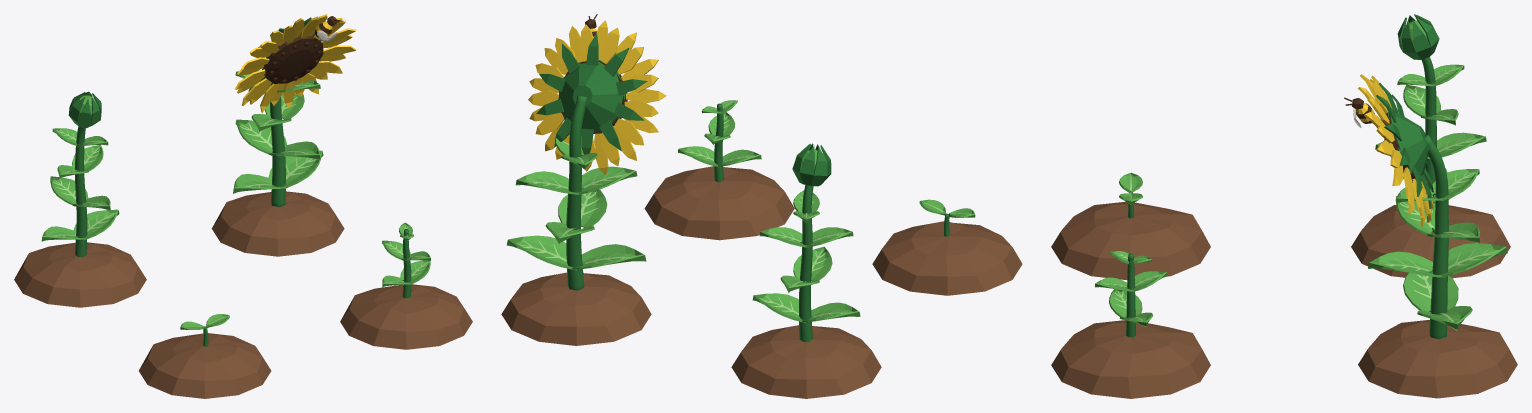
Rendered from sunflower-growth-stages.glb.
3 views of the same model, side by side, from view 1: azimuth 30°, elevation 25°; view 2: azimuth 150°, elevation 25°; view 3: azimuth 270°, elevation 25° (orthographic). The views are drawn at different scales.
Visible parts, largest first — view 1: Sunflower_Stage4_Grown, Sunflower_Stage3_Bud, Sunflower_Stage2_Young, Sunflower_Stage1_Sprout; view 2: Sunflower_Stage4_Grown, Sunflower_Stage3_Bud, Sunflower_Stage2_Young, Sunflower_Stage1_Sprout; view 3: Sunflower_Stage4_Grown, Sunflower_Stage2_Young, Sunflower_Stage3_Bud, Sunflower_Stage1_Sprout.
Boxes of the visible parts, x1,y1,x2,y2 form: Sunflower_Stage4_Grown: (211, 14, 356, 256); Sunflower_Stage3_Bud: (14, 91, 146, 307); Sunflower_Stage2_Young: (340, 223, 472, 349); Sunflower_Stage1_Sprout: (139, 314, 271, 398); Sunflower_Stage4_Grown: (501, 14, 666, 345); Sunflower_Stage3_Bud: (731, 143, 881, 398); Sunflower_Stage2_Young: (644, 100, 794, 240); Sunflower_Stage1_Sprout: (872, 199, 1022, 295); Sunflower_Stage4_Grown: (1344, 74, 1517, 398); Sunflower_Stage2_Young: (1051, 251, 1210, 398); Sunflower_Stage3_Bud: (1351, 14, 1510, 278); Sunflower_Stage1_Sprout: (1051, 172, 1210, 280).
Bounding box in the file's own units: 11.05 × 7.78 × 11.67.
